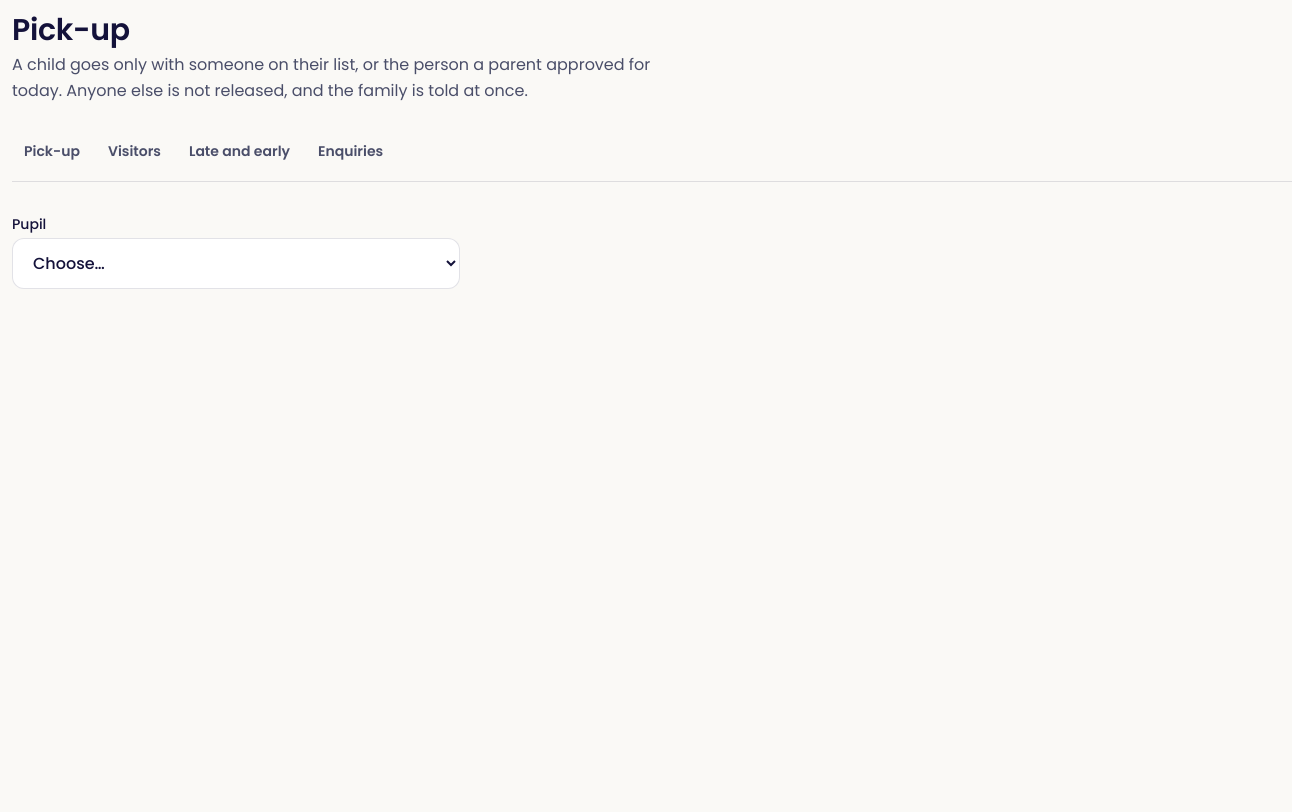
GateScreen › records someone not on the list and alerts the family
Select "Kojo Asante (Basic 2)" in the dropdown labelled "Pupil" at (236, 263), box left=12, top=238, right=460, bottom=289
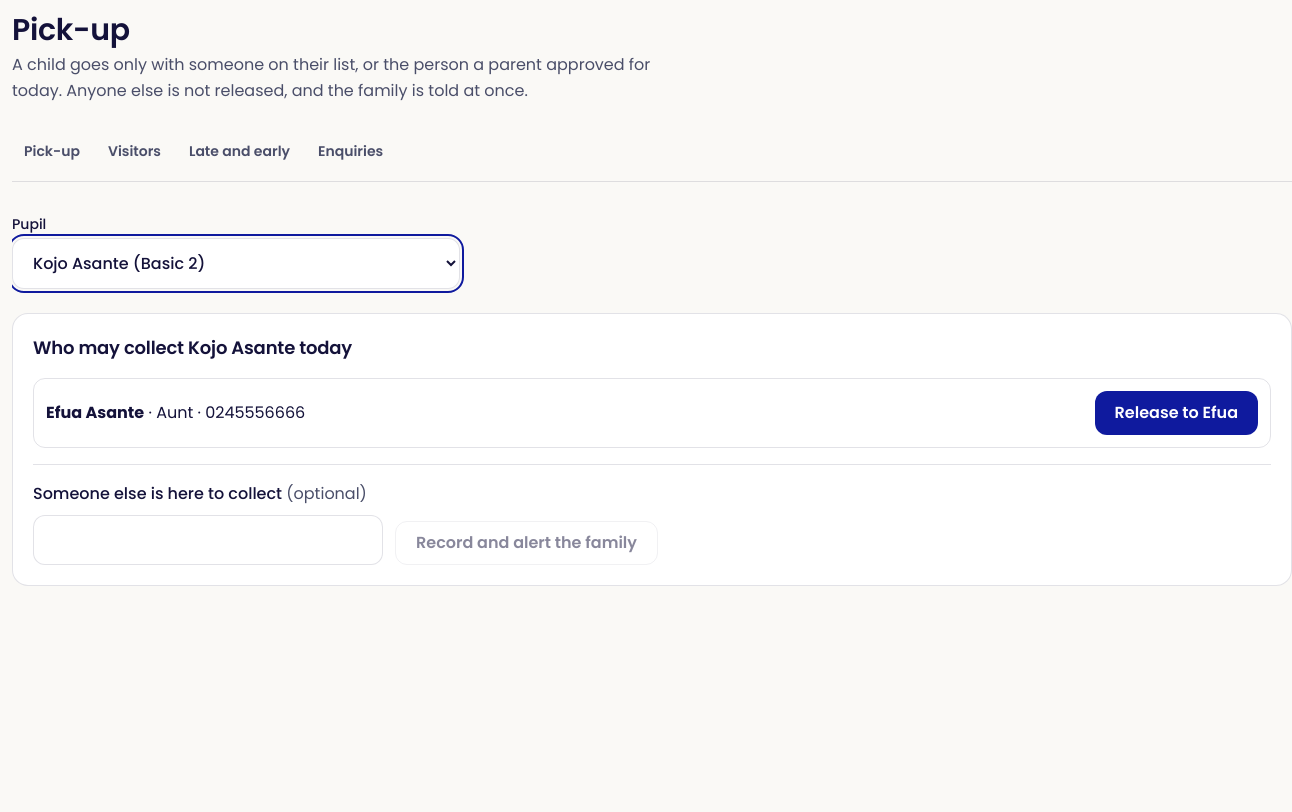
Type "Unknown man" into the field labelled "Someone else is here to collect (optional)" at (208, 540), box left=33, top=515, right=383, bottom=565
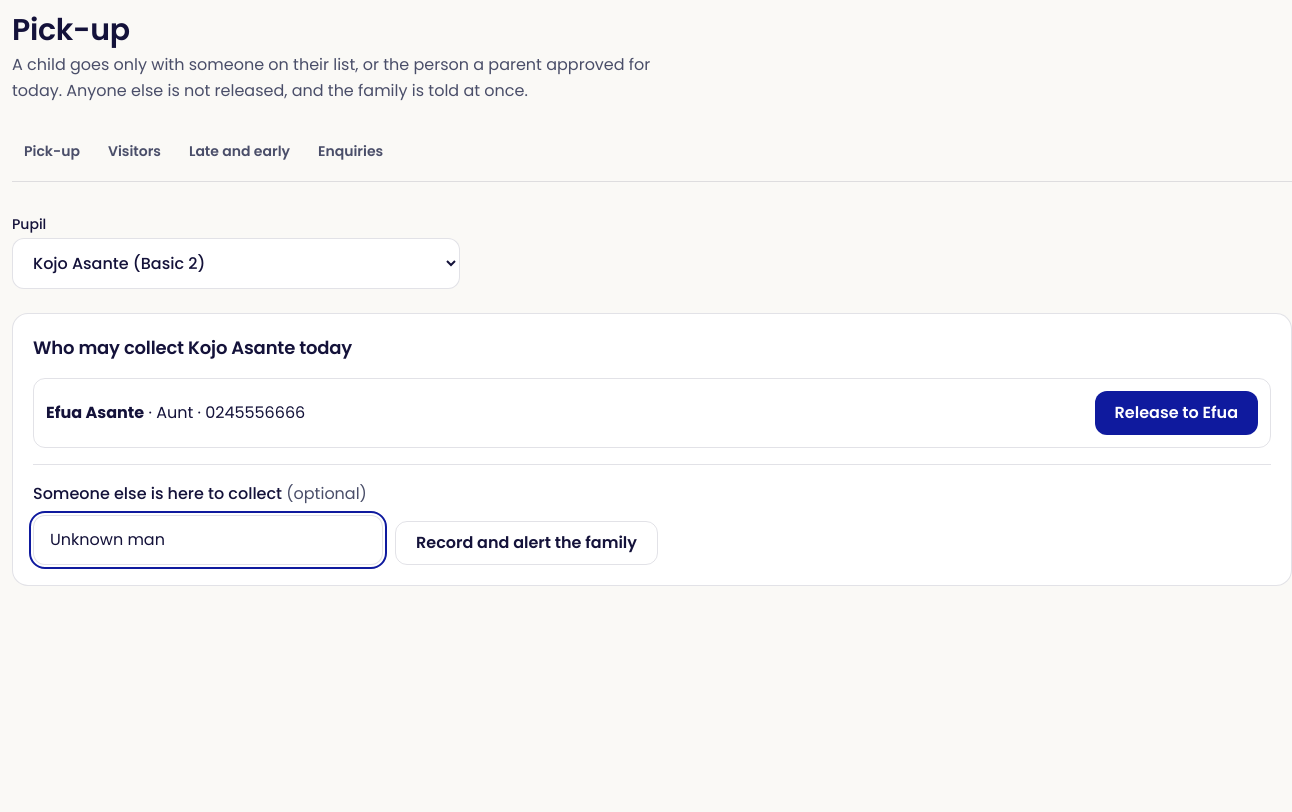
Click the button "Record and alert the family" at (526, 543), box left=395, top=521, right=658, bottom=565
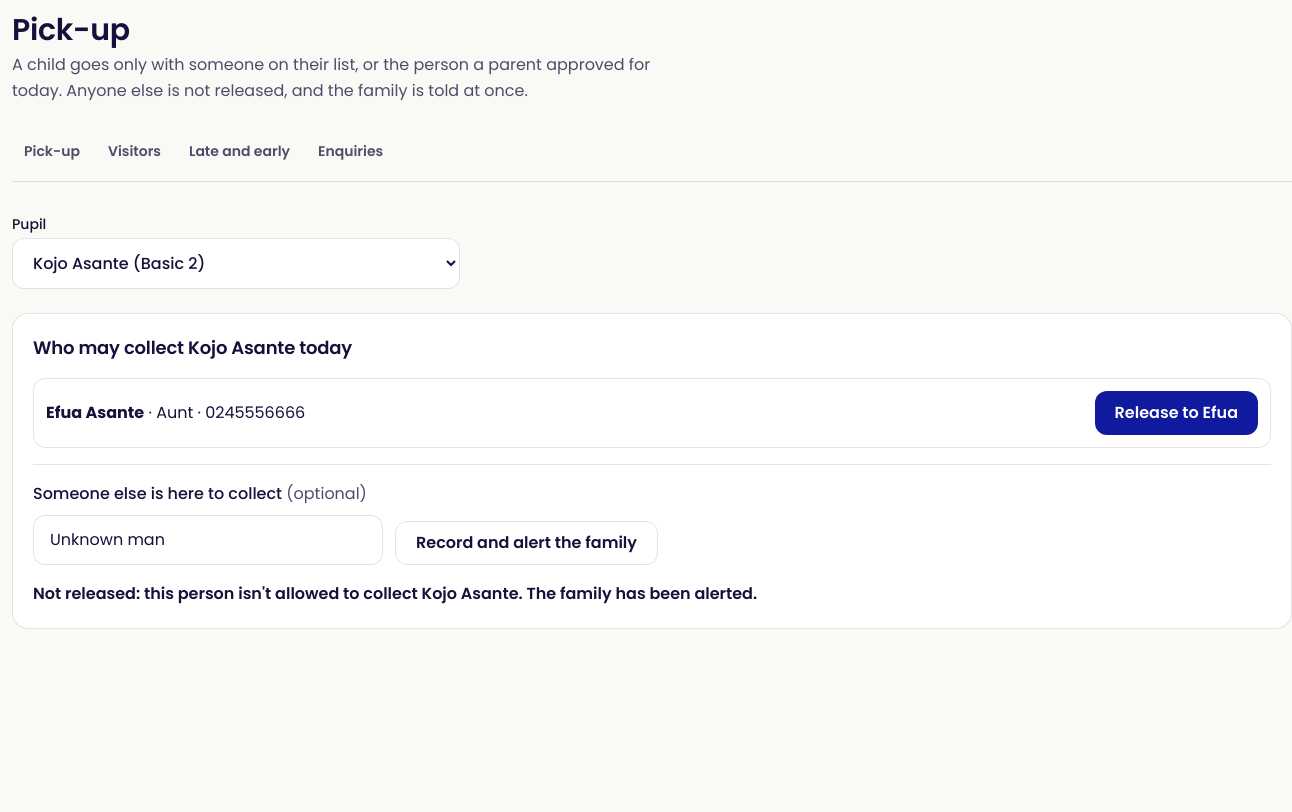
Check: the text "Not released" is shown, box left=33, top=582, right=757, bottom=605
